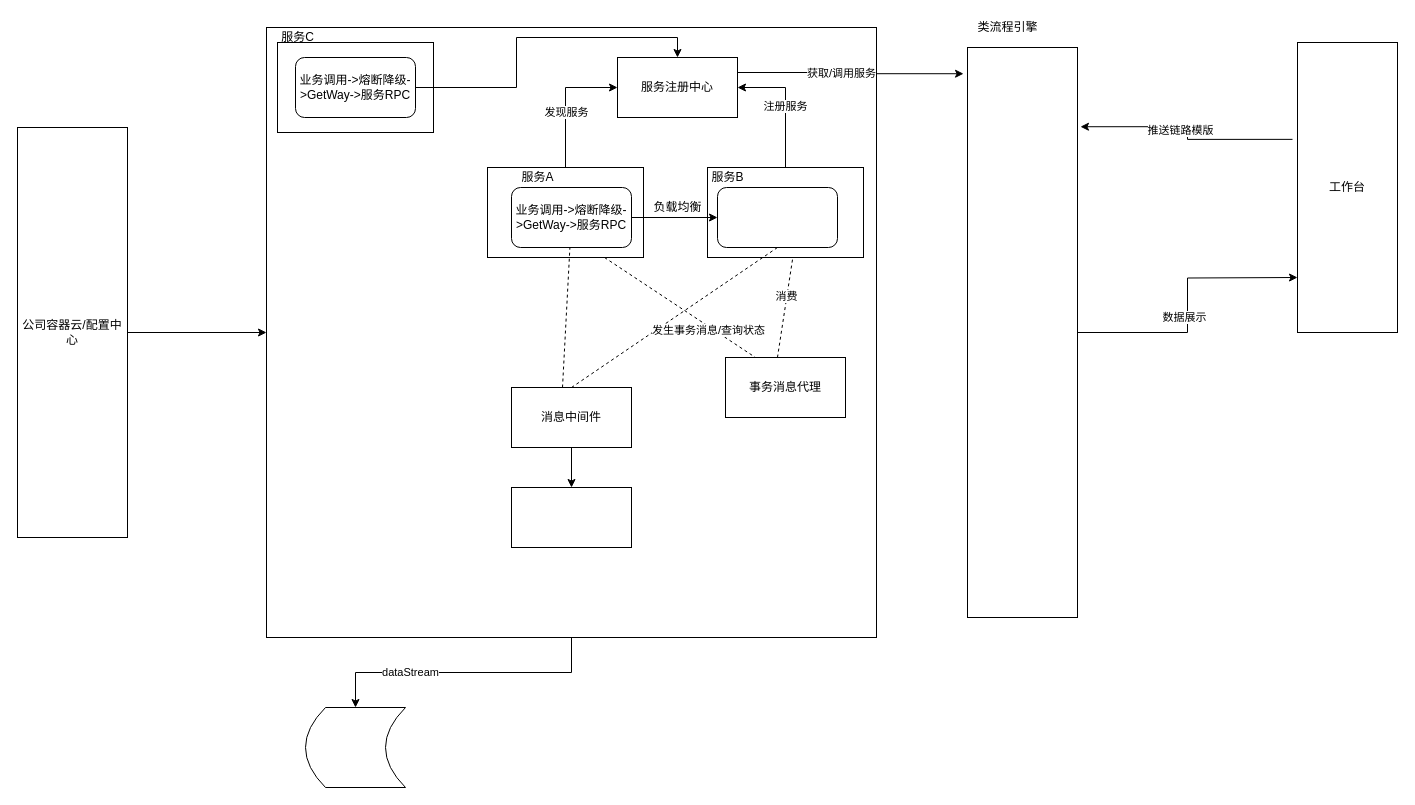
Some shapes in this 1415 by 805 pixel diagram are drawn without their labels. The shapes that lost their labels are listed below. From the top down, each one's centre as x and y in pixels, then its label:
(777,217): 服务RPC->GetWay->熔断降级->业务调用
(1022,332): 获取所有服务的集合->匹配不同的应用链路模版->生成不同的流转数据
(571,517): 追踪平台
(355,747): 数据计算和分析
